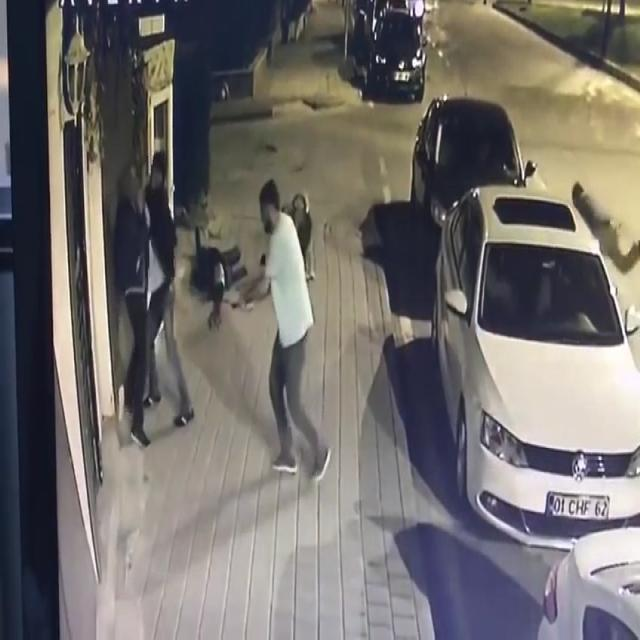fight: (102, 153, 209, 445), (184, 164, 328, 340)
